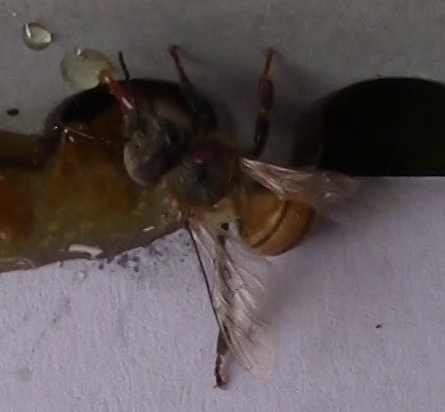Varroa destructor: (188, 140, 220, 164)
